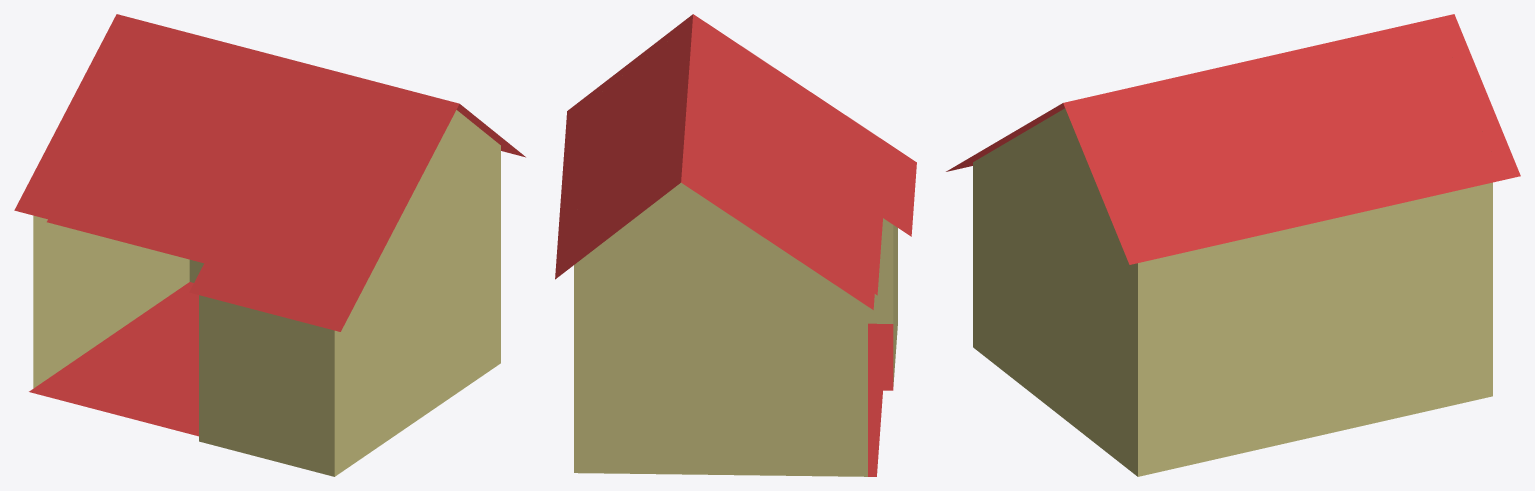
3 renders of one model, left to right at view 1: azimuth 30°, elevation 25°; view 2: azimuth 150°, elevation 25°; view 3: azimuth 270°, elevation 25°, orthographic. The views are drawn at different scales.
Size of the model in its own units: 19.08 by 21.01 by 13.43.
